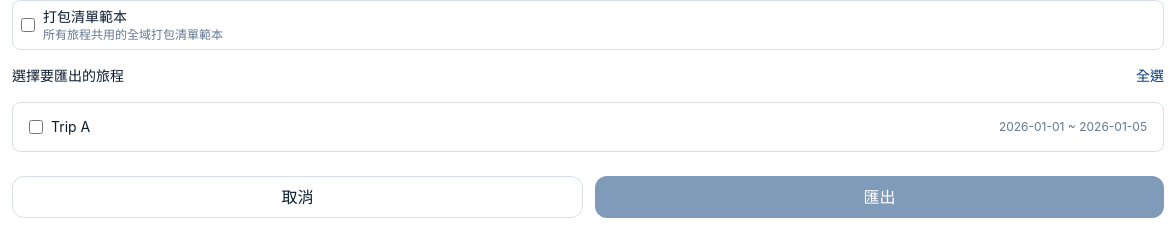
Test: ExportTab › keeps the submit button disabled until a trip is selected, and disables it again when unchecked
Check: the button "匯出" is disabled, box [595, 176, 1164, 218]
Click the checkbox labelled "Trip A 2026-01-01 ~ 2026-01-05" at (36,127), box [29, 120, 43, 134]
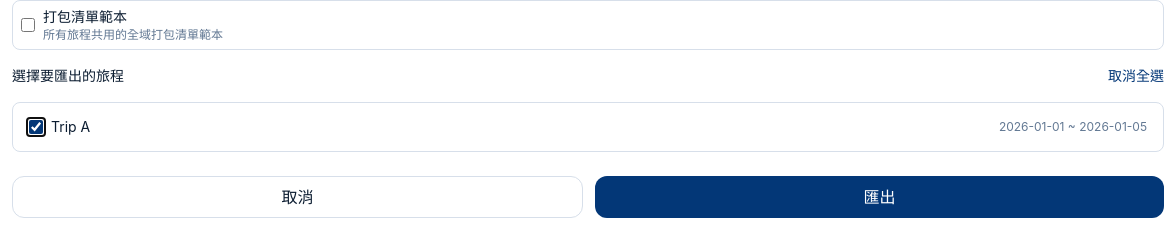
Check: the checkbox labelled "Trip A 2026-01-01 ~ 2026-01-05" is checked
Check: the button "匯出" is enabled, box [595, 176, 1164, 218]
Click the checkbox labelled "Trip A 2026-01-01 ~ 2026-01-05" at (36,127), box [29, 120, 43, 134]
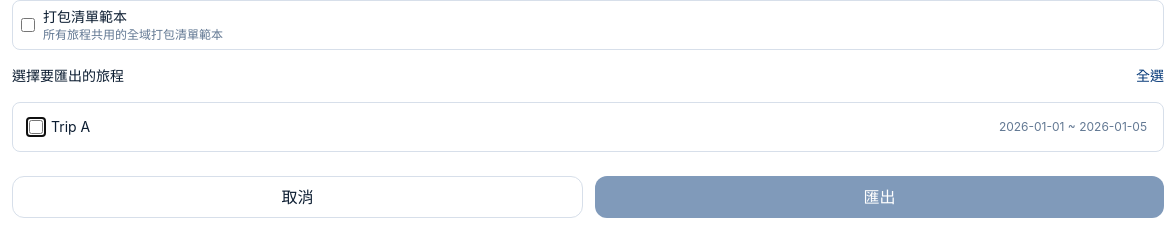
Check: the checkbox labelled "Trip A 2026-01-01 ~ 2026-01-05" is not checked, box [29, 120, 43, 134]
Check: the button "匯出" is disabled, box [595, 176, 1164, 218]
